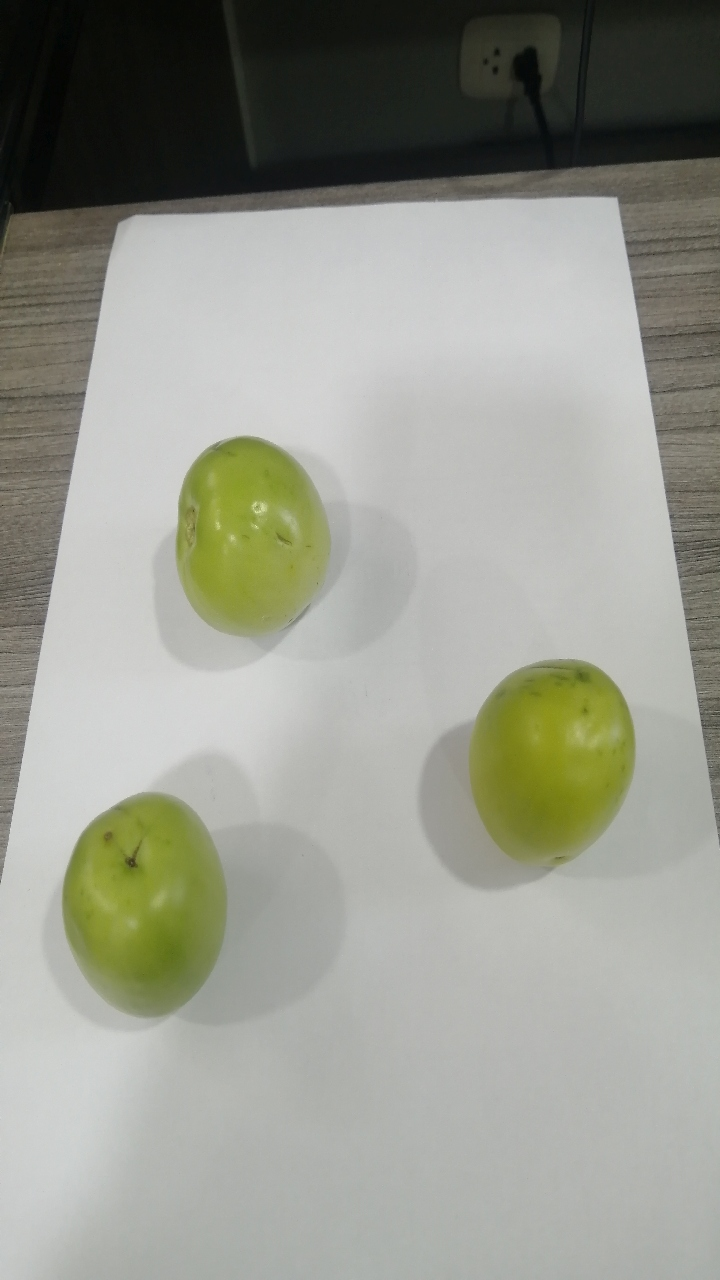tomateVerde: (41, 779, 248, 1039), (452, 632, 652, 891), (152, 412, 349, 659)
